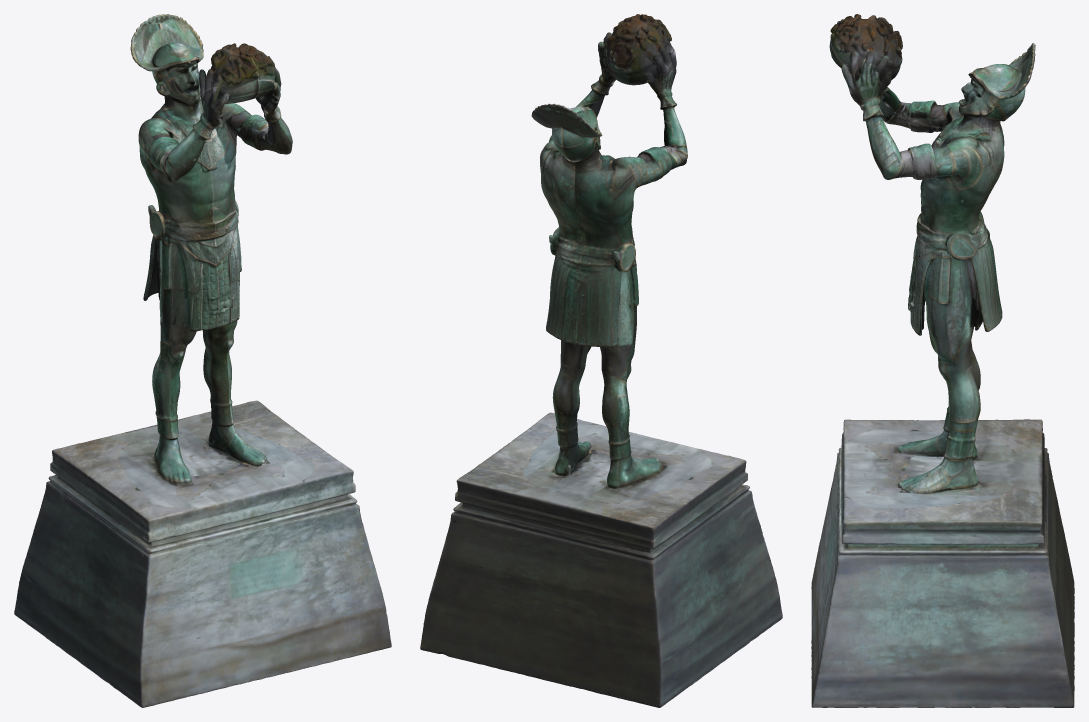
File: estatua.glb
The picture shows the model from 3 angles, left to right: view 1: azimuth 30°, elevation 25°; view 2: azimuth 150°, elevation 25°; view 3: azimuth 270°, elevation 25°; orthographic projection. The views are drawn at different scales.
Size of the model in its own units: 0.8129 by 1.9 by 0.7219.
Materials: 1 (1 with a texture image).
